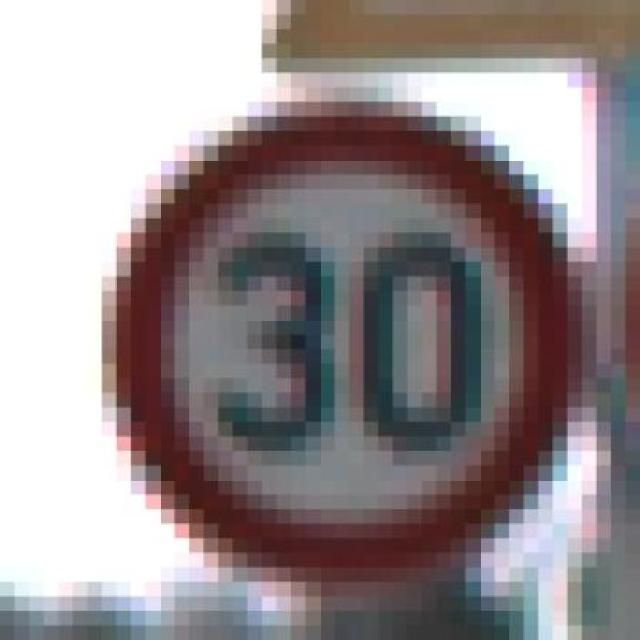Speed Limit 30 KMPh: (58, 72, 612, 626)
